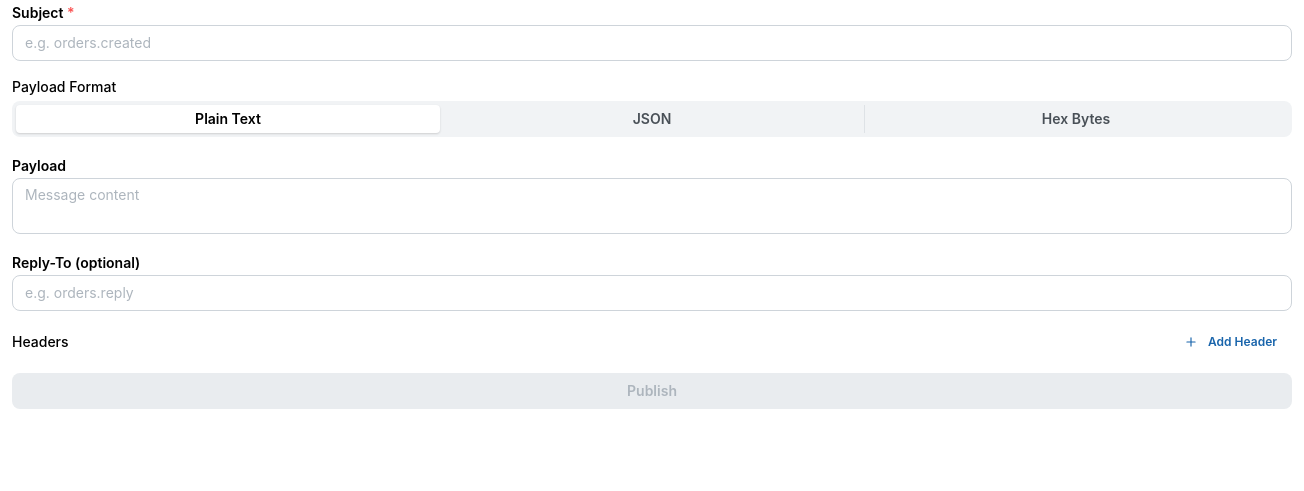
Test: empty header key shows validation error
// Fill subject
Type "test.subject" into the field labelled "Subject *" at (652, 43), box top-left (12, 25), bottom-right (1292, 61)
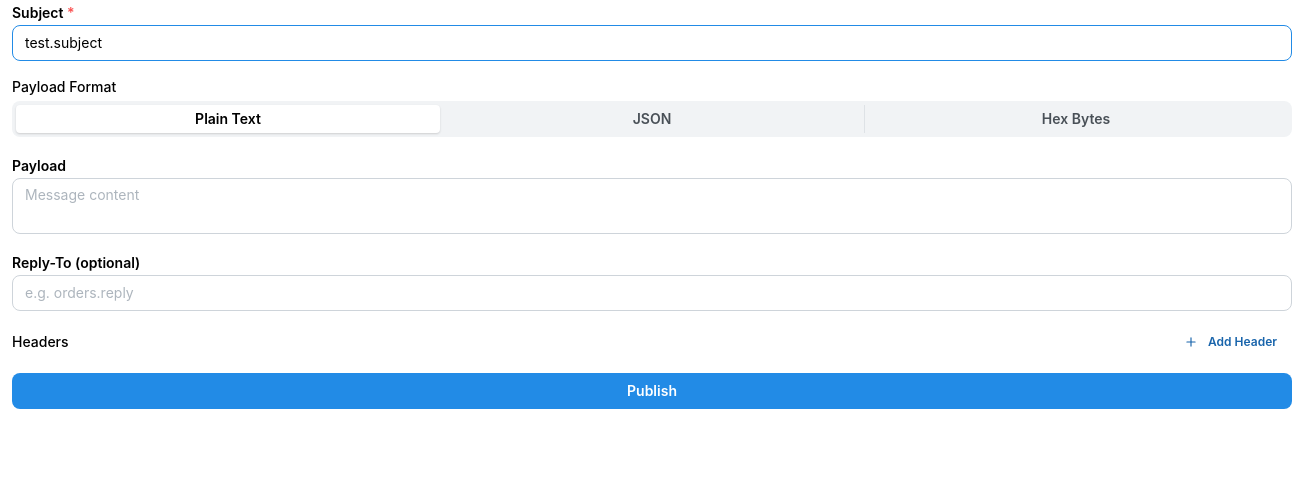
// Add a header
Click the button "Add Header" at (1233, 342), box top-left (1174, 327), bottom-right (1292, 357)
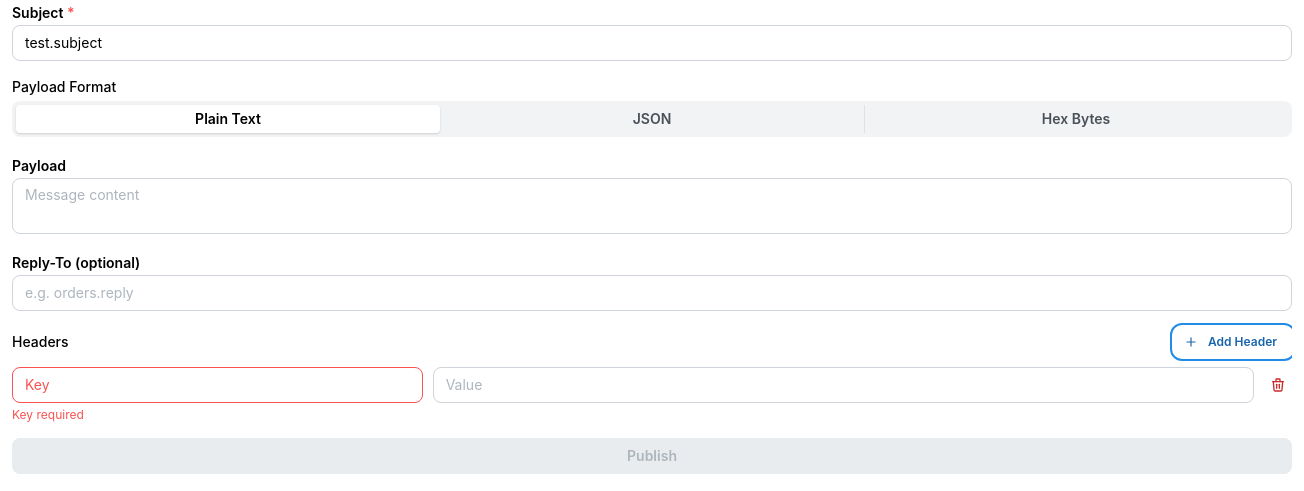
Expected: the button "Publish" is disabled, top-left (12, 438), bottom-right (1292, 474)
